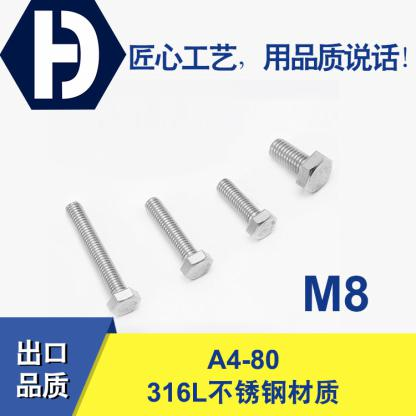FOD: (64, 197, 141, 318), (145, 192, 216, 283), (216, 174, 280, 243), (266, 134, 336, 195)
